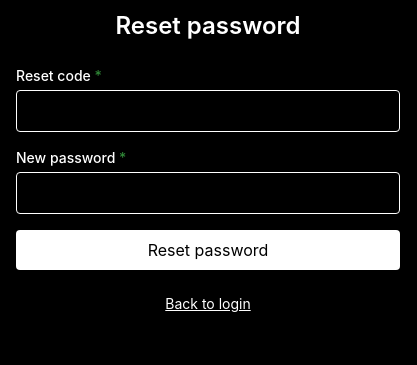
ResetPasswordView › shows an error message when the reset code is invalid
In the field labelled "Reset code *": (208, 111) [16,90,400,132], type "BAD-CODE"
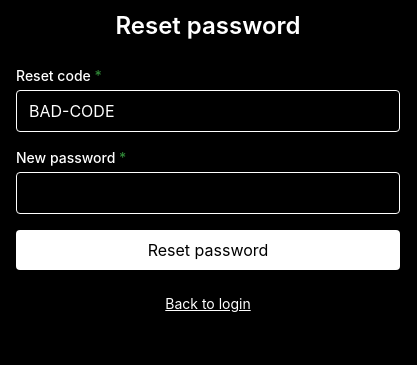
In the password field labelled "New password *": (208, 193) [16,172,400,214], type "newSecret123"
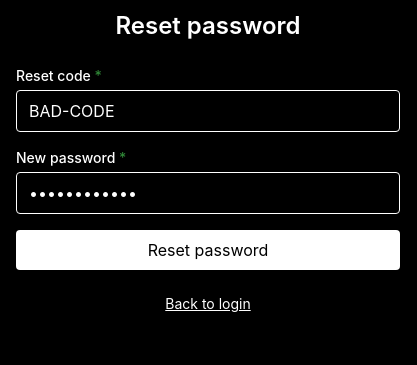
Click the button "Reset password": (208, 250) [16,230,400,270]
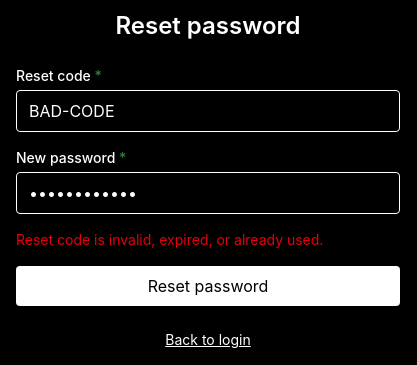
Result: the text "Reset code is invalid, expired, or already used." is shown at [16,231,323,248]
